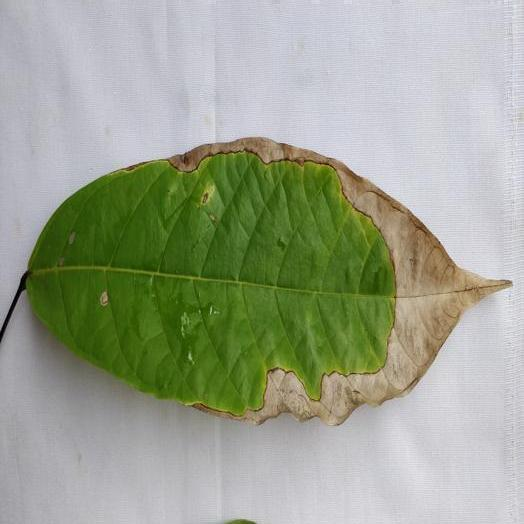Potassium: (20, 138, 510, 423)
